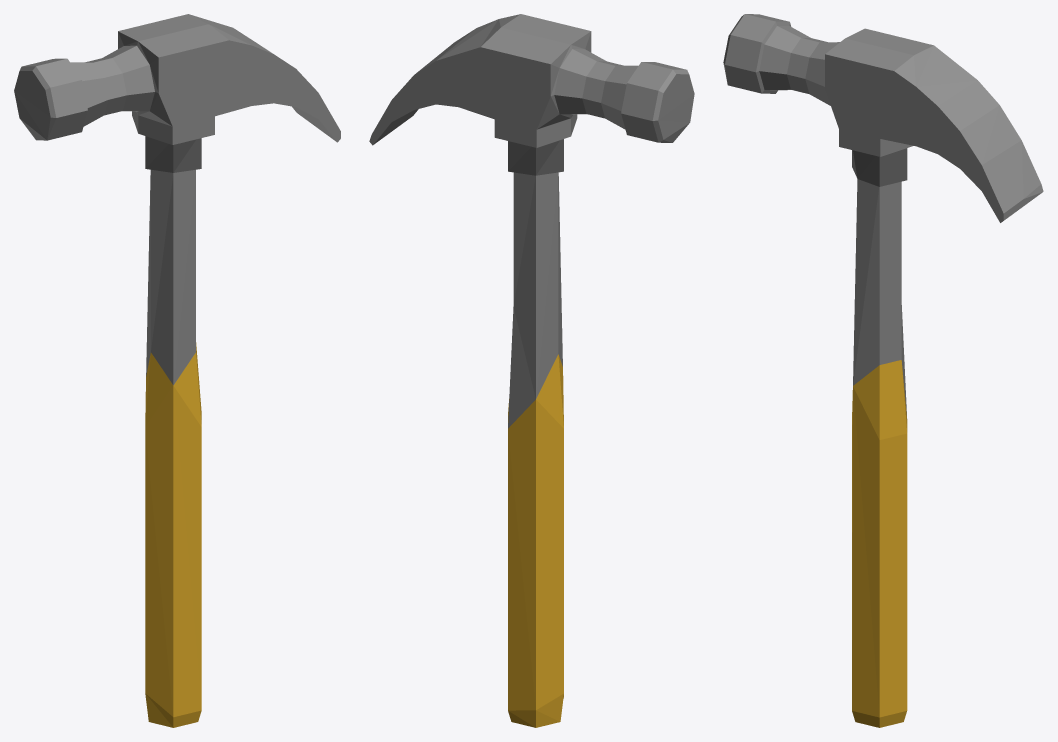
File: hammer.FBX
3 renders of one model, left to right at view 1: azimuth 30°, elevation 25°; view 2: azimuth 150°, elevation 25°; view 3: azimuth 330°, elevation 25°, orthographic. The views are drawn at different scales.
Parts seen in each view (by area): view 1: hammer_low_poly; view 2: hammer_low_poly; view 3: hammer_low_poly.
Boxes of the visible parts, x1,y1,x2,y2 form: hammer_low_poly: (14, 14, 340, 727); hammer_low_poly: (369, 14, 694, 727); hammer_low_poly: (723, 14, 1043, 727).
Bounding box in the file's own units: 64.3 × 146 × 15.75.
1 material, 1 textured.
